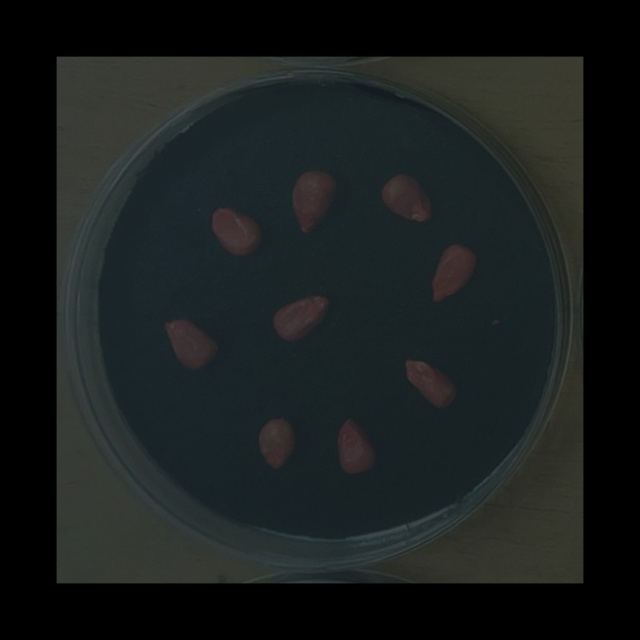Zea mays: (287, 164, 343, 240), (266, 287, 336, 347), (399, 352, 463, 417), (425, 237, 483, 308), (203, 200, 267, 263), (160, 315, 226, 376), (375, 168, 438, 229), (330, 413, 382, 482), (254, 413, 301, 476)
